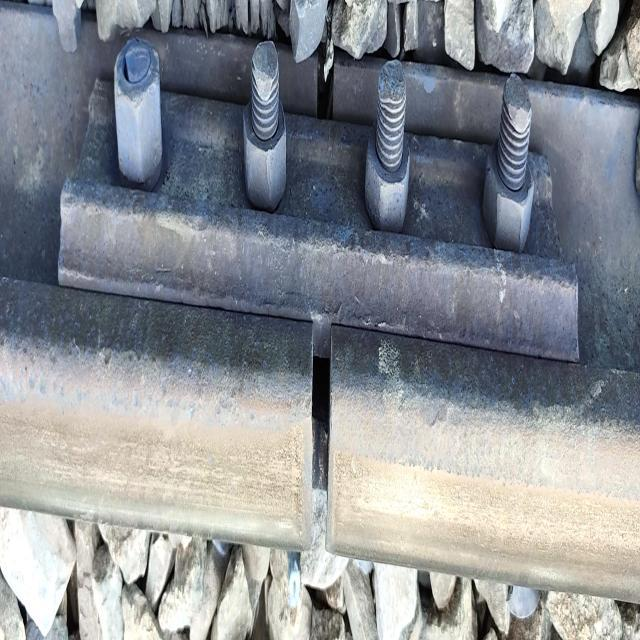railway_join_bar_defects_low: (300, 60, 340, 562)
